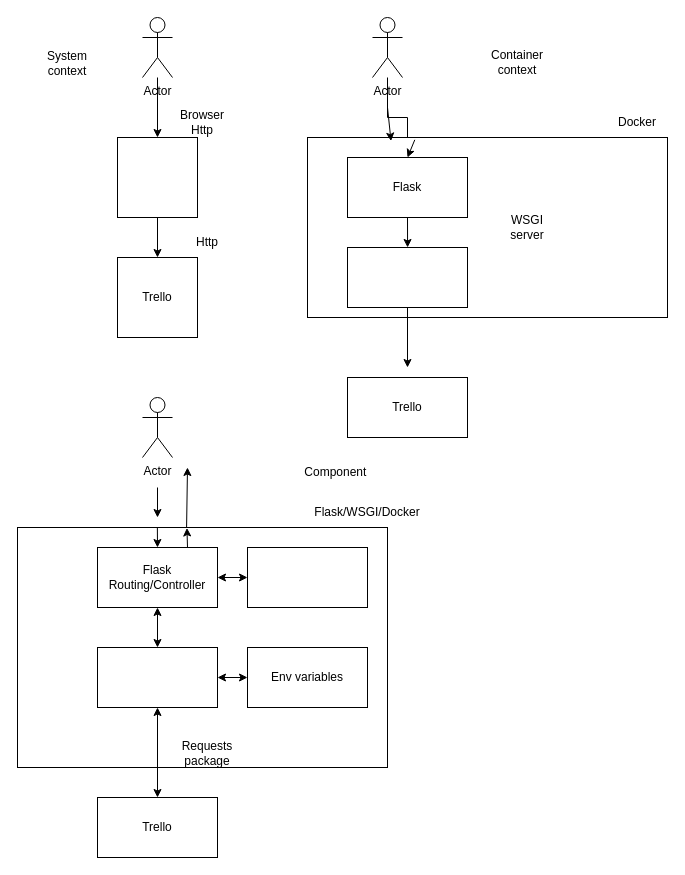
Image size: 685x875. Some labels were removed from this diagram. Each missing label, with the centre of its shape:
"Data service" belongs at pixel 157 677.
"HTML Templates (Jinja2)" belongs at pixel 307 577.
"Todo_app" belongs at pixel 157 177.
"Todo_app services" belongs at pixel 407 277.
